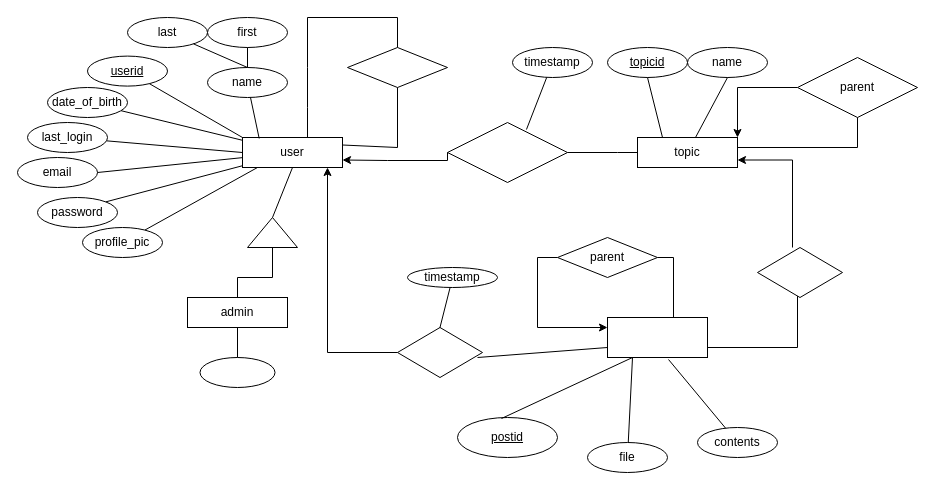
Image size: 935x490. Some labels were removed from this diagram. Each missing label, with the centre of its shape:
admin_since: point (237, 372)
contains: point (799, 272)
creates: point (507, 152)
follows: point (397, 67)
post: point (657, 337)
posts: point (439, 352)
